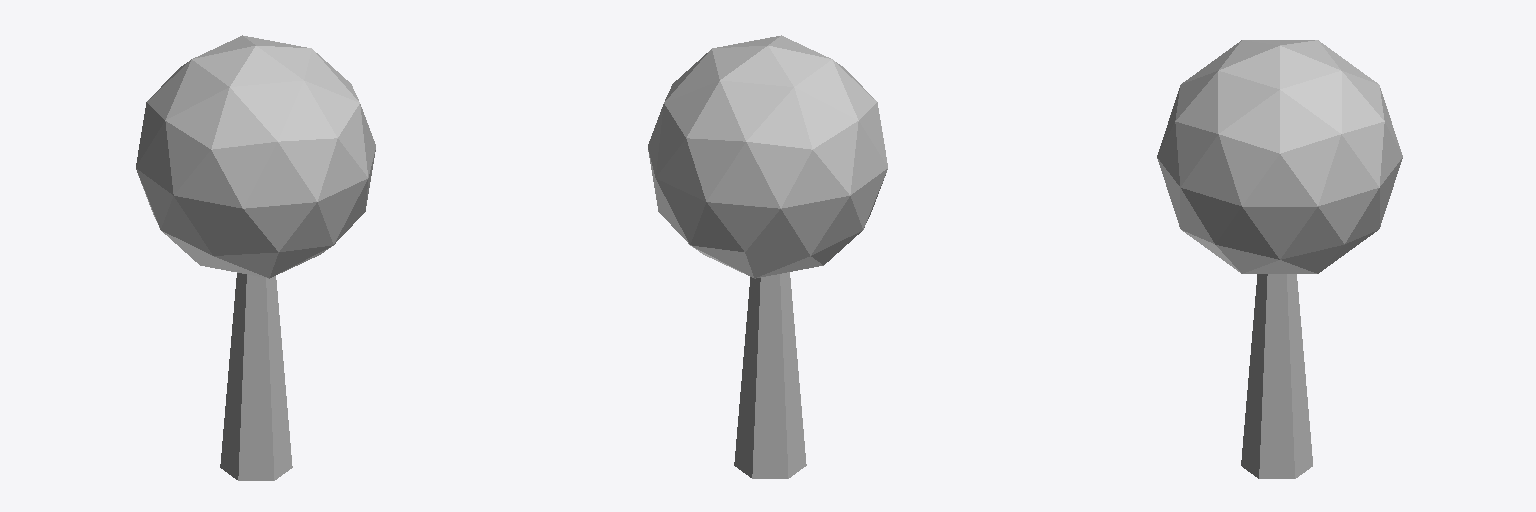
The model's file is tree2.obj.
3 views of the same model, side by side, from view 1: azimuth 30°, elevation 25°; view 2: azimuth 150°, elevation 25°; view 3: azimuth 270°, elevation 25° (orthographic).
Parts seen in each view (by area): view 1: Cylinder; view 2: Cylinder; view 3: Cylinder.
Part boxes in pixels (left/top/right/bottom): Cylinder: left=136, top=35, right=375, bottom=480; Cylinder: left=648, top=35, right=887, bottom=478; Cylinder: left=1157, top=40, right=1402, bottom=478.
Size of the model in its own units: 1.94 by 3.85 by 2.04.